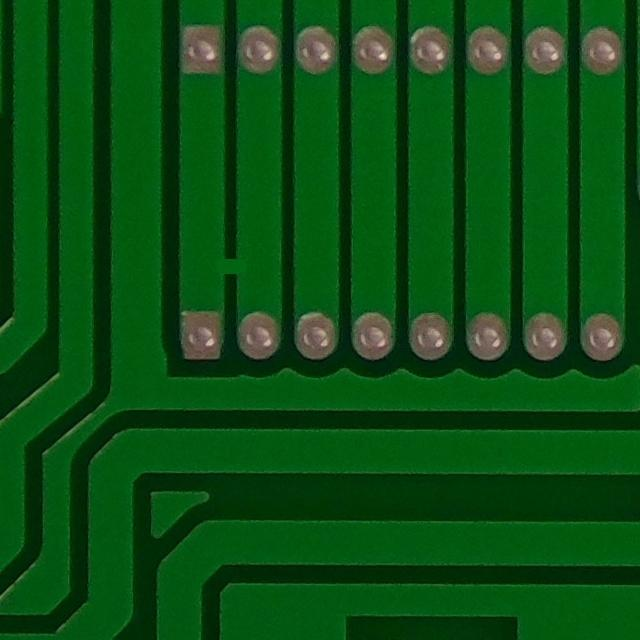short: (164, 204, 288, 304)
